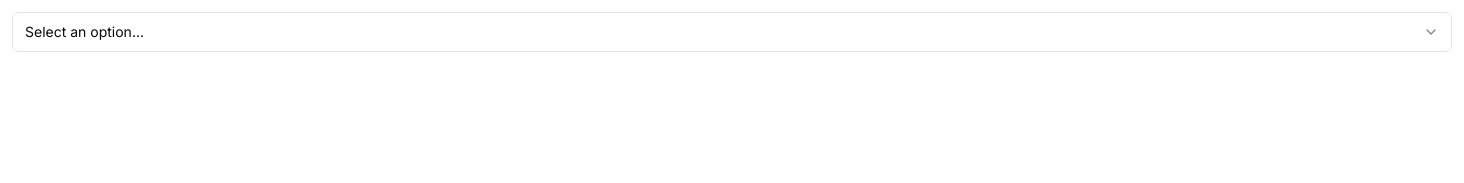
BaseSelect › User Interaction › opens dropdown on click
Click the dropdown.
click(84, 32)  # box [12,12,1452,52]
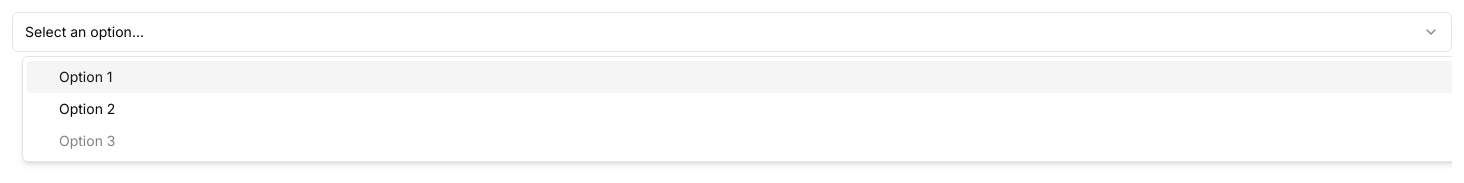
Result: the option "Option 2" is shown at [59,100,115,117]
